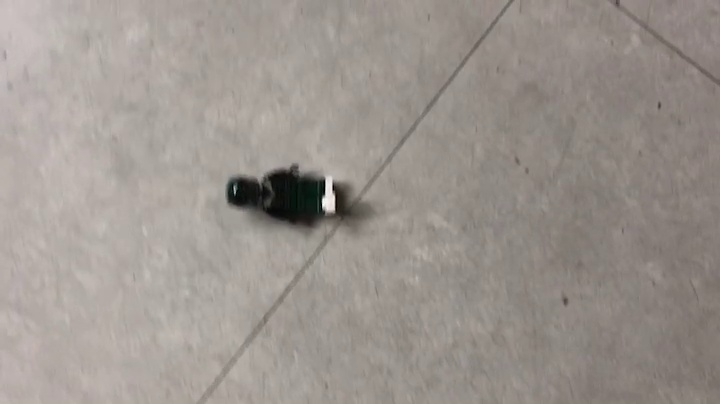people: (224, 162, 344, 228)
